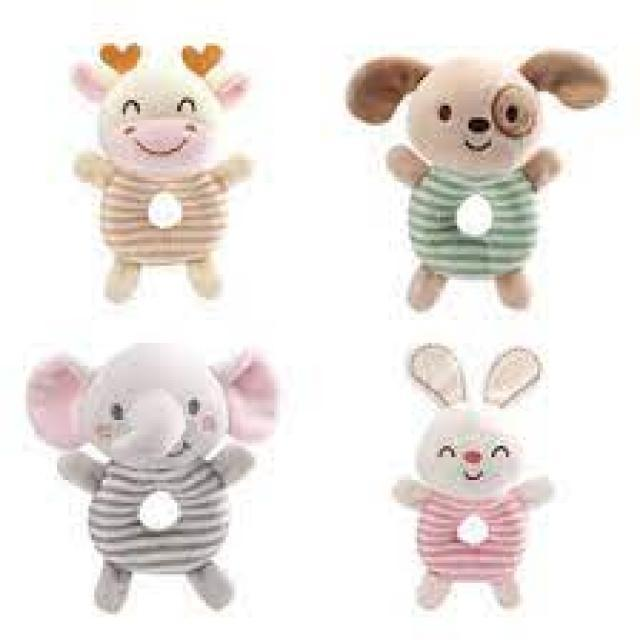soft-toy: (348, 52, 608, 309), (28, 342, 275, 612), (72, 42, 250, 301), (409, 342, 541, 607)
